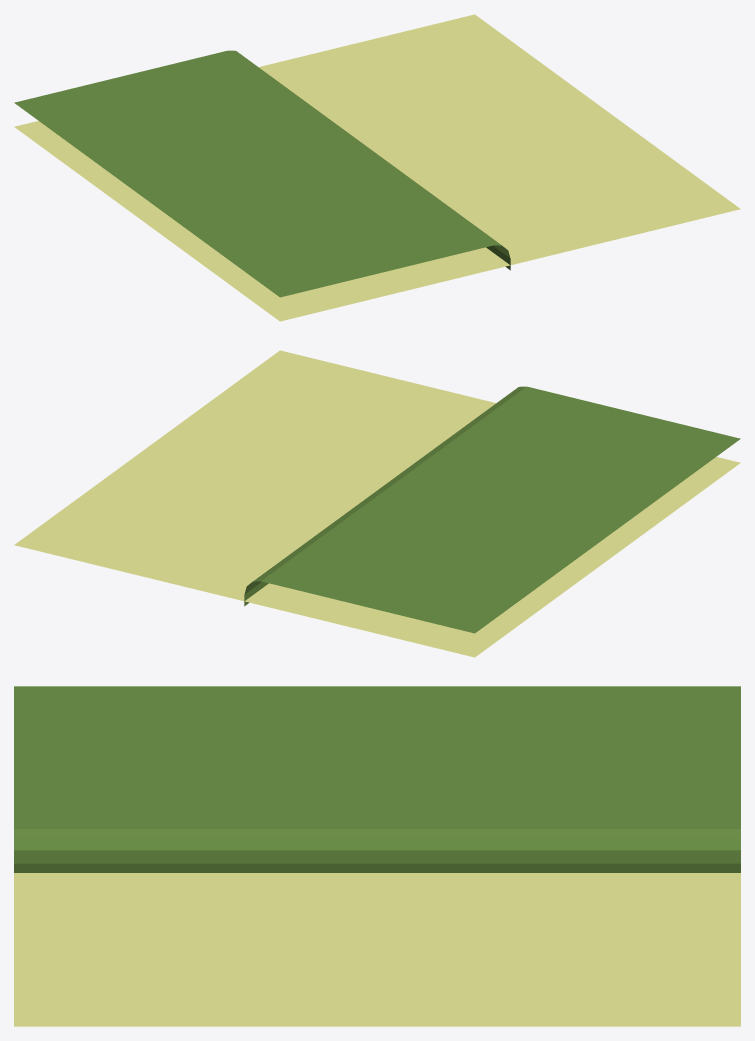
Rendered from grass_sand.fbx.
3 views of the same model, one above another, from view 1: azimuth 30°, elevation 25°; view 2: azimuth 150°, elevation 25°; view 3: azimuth 270°, elevation 25° (orthographic). The views are drawn at different scales.
Parts seen in each view (by area): view 1: Cube.062; view 2: Cube.062; view 3: Cube.062.
Boxes of the visible parts, bbox=[...] form: Cube.062: bbox=[14, 14, 740, 321]; Cube.062: bbox=[14, 350, 740, 657]; Cube.062: bbox=[14, 686, 740, 1026].
Size of the model in its own units: 200 by 200 by 12.12.
